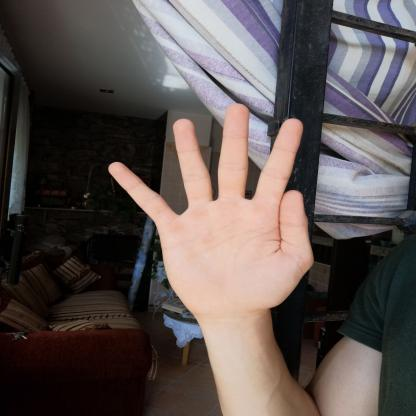SHEEN: (92, 94, 335, 329)
